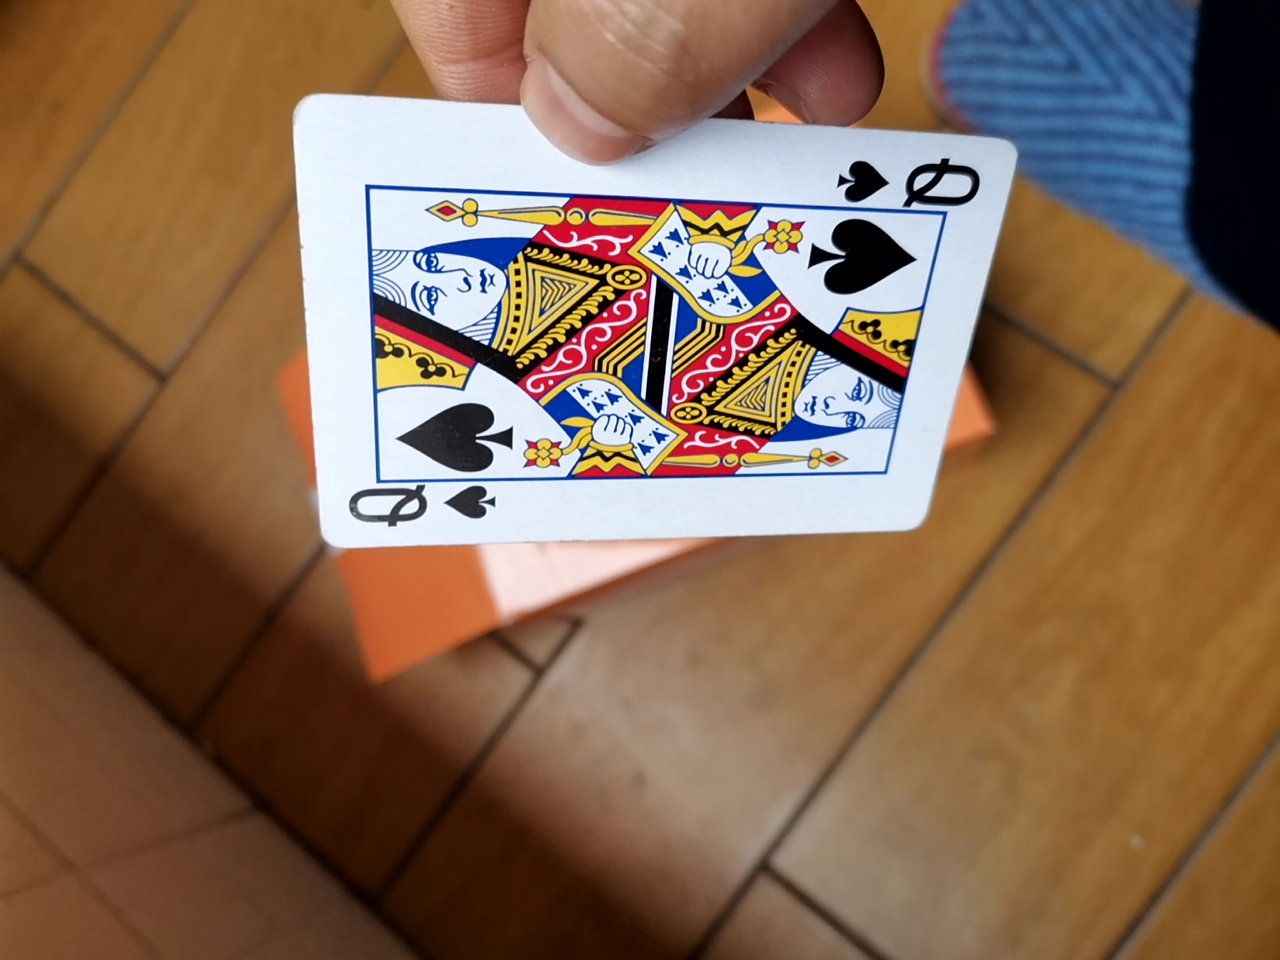ht q: (273, 97, 994, 576)
